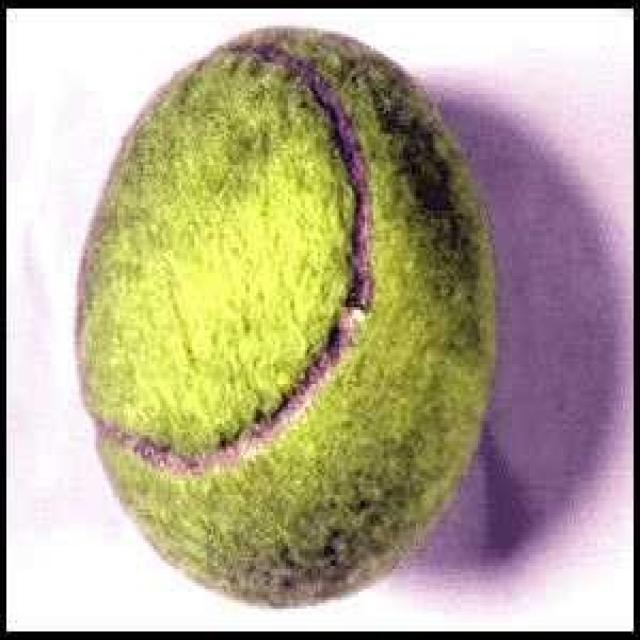Tennis_Ball: (80, 17, 488, 594)
